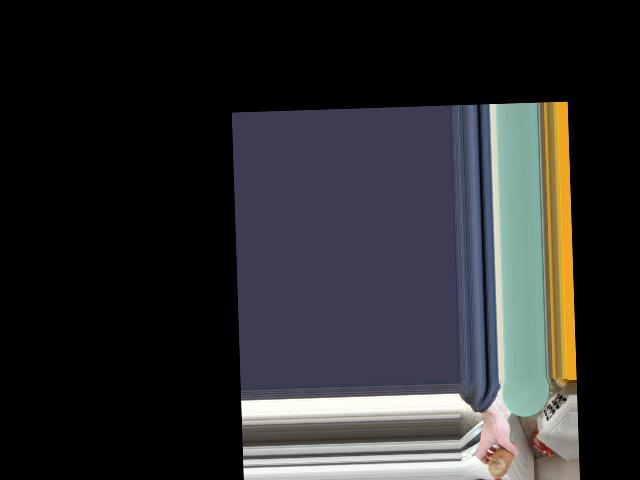sweet_potato: (485, 436, 519, 476)
